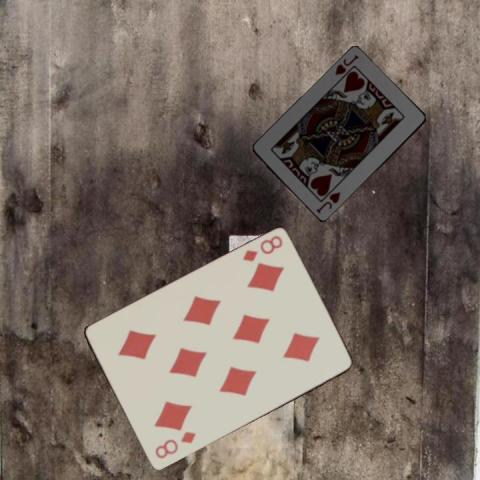8d: (151, 428, 198, 460), (239, 233, 284, 264)
Jh: (313, 189, 342, 215), (332, 51, 360, 77)
